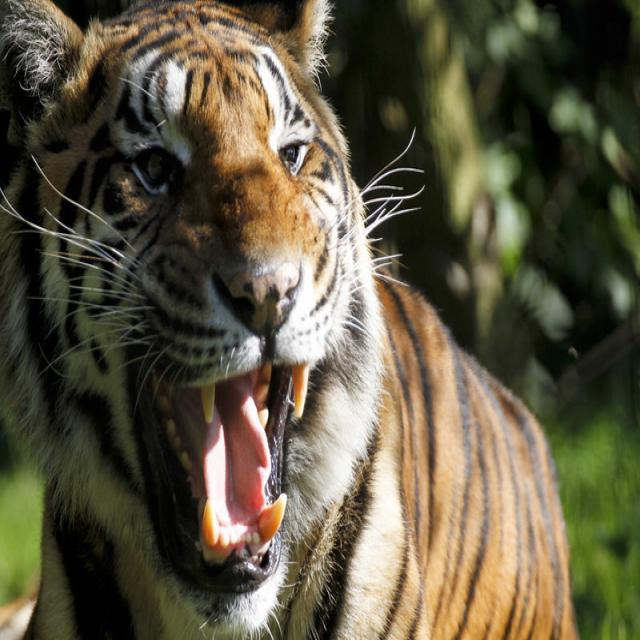Tiger: (1, 0, 579, 638)
